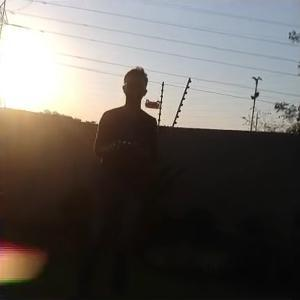follow: (84, 64, 159, 298)
